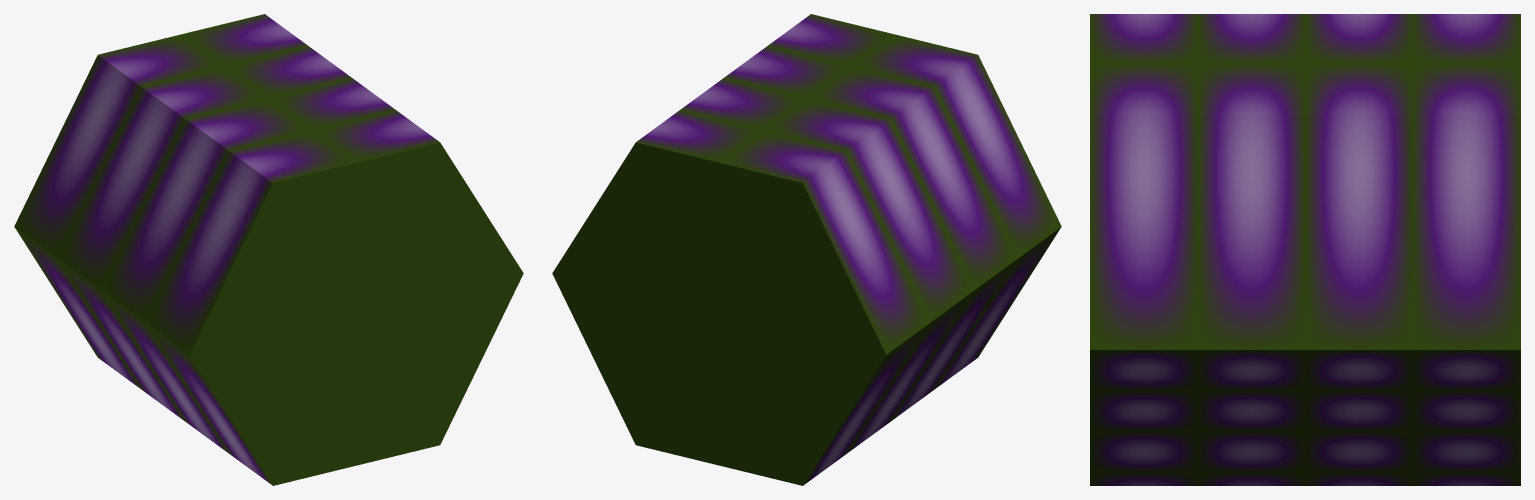
Rendered from hexprism-cosmic-c1.glb.
3 renders of one model, left to right at view 1: azimuth 30°, elevation 25°; view 2: azimuth 150°, elevation 25°; view 3: azimuth 270°, elevation 25°, orthographic. The views are drawn at different scales.
Visible parts, largest first — view 1: world; view 2: world; view 3: world.
Part boxes in pixels (x1=…): world: x1=14, y1=14, x2=523, y2=485; world: x1=552, y1=14, x2=1061, y2=485; world: x1=1090, y1=14, x2=1520, y2=485.
Size of the model in its own units: 1.1 by 0.9526 by 1.
1 material, 1 textured.
